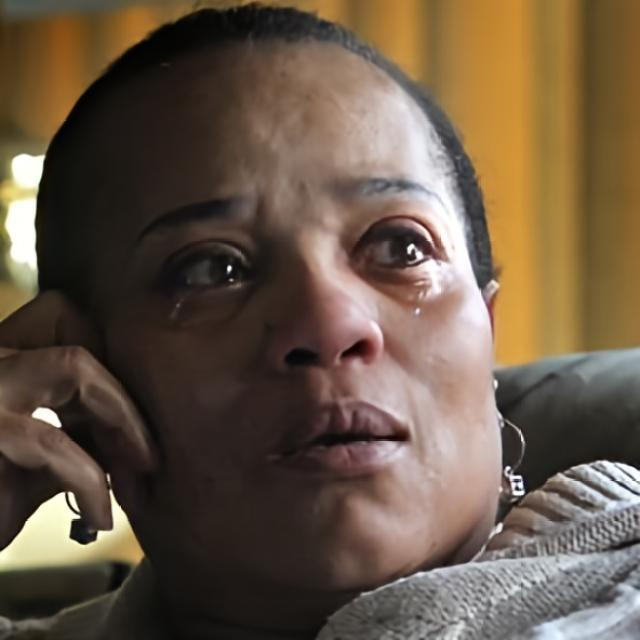sad: (84, 42, 496, 594)
